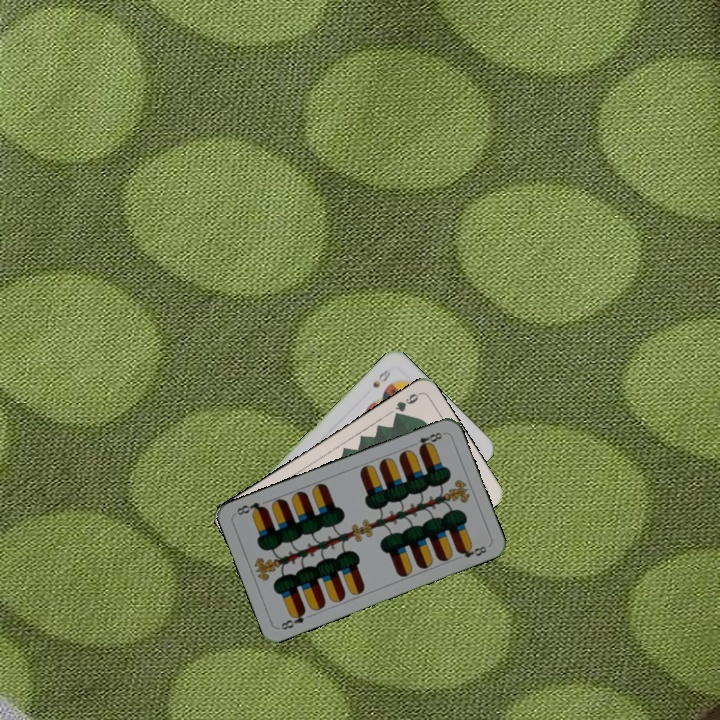E8: (277, 606, 308, 632), (414, 428, 446, 453)
G9: (390, 389, 422, 421)
S8: (369, 365, 393, 390)
